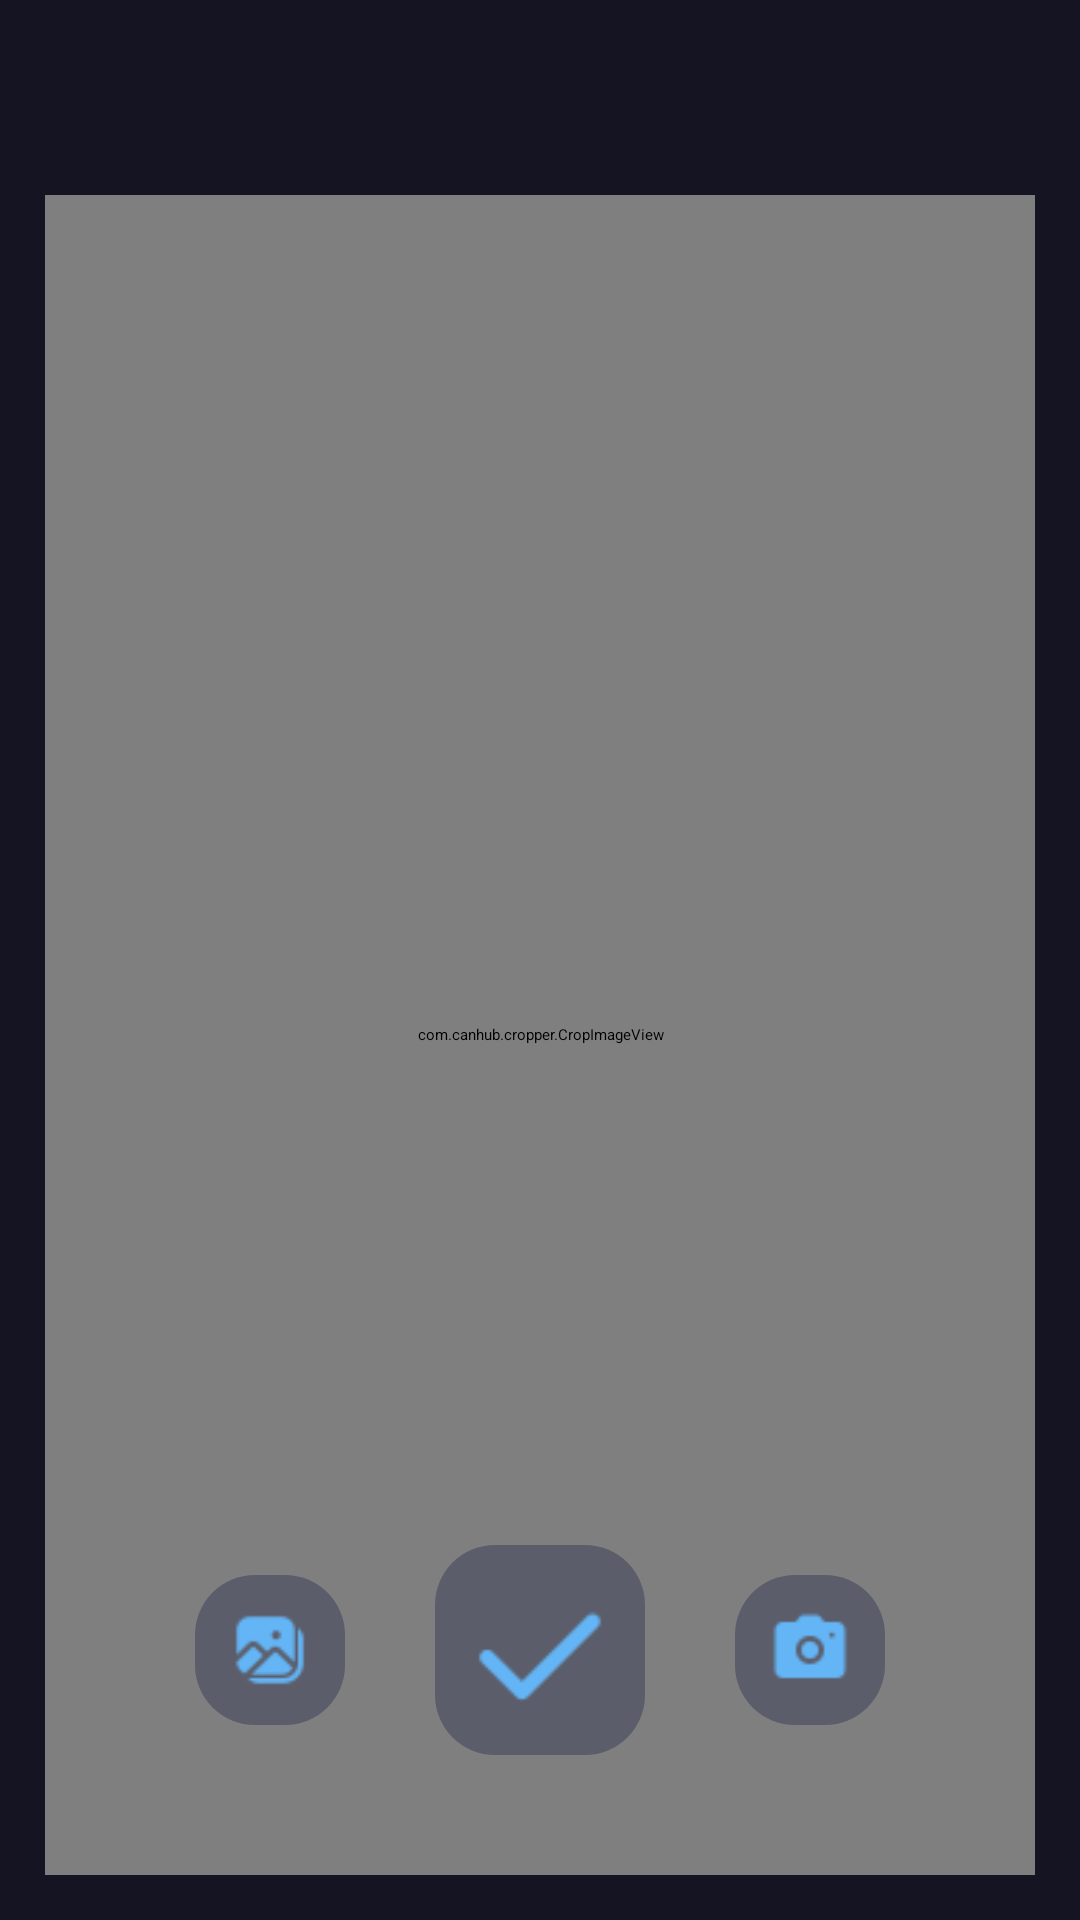

Locate icon controls on the screen. Image size 1080w x 1920h, boxes as (x1, y1, x2, y2).
confirm: (435, 1545, 645, 1755)
open camera: (735, 1575, 885, 1725)
open gallery: (195, 1575, 345, 1725)
